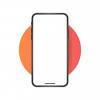Smartphone: (33, 12, 72, 87)
